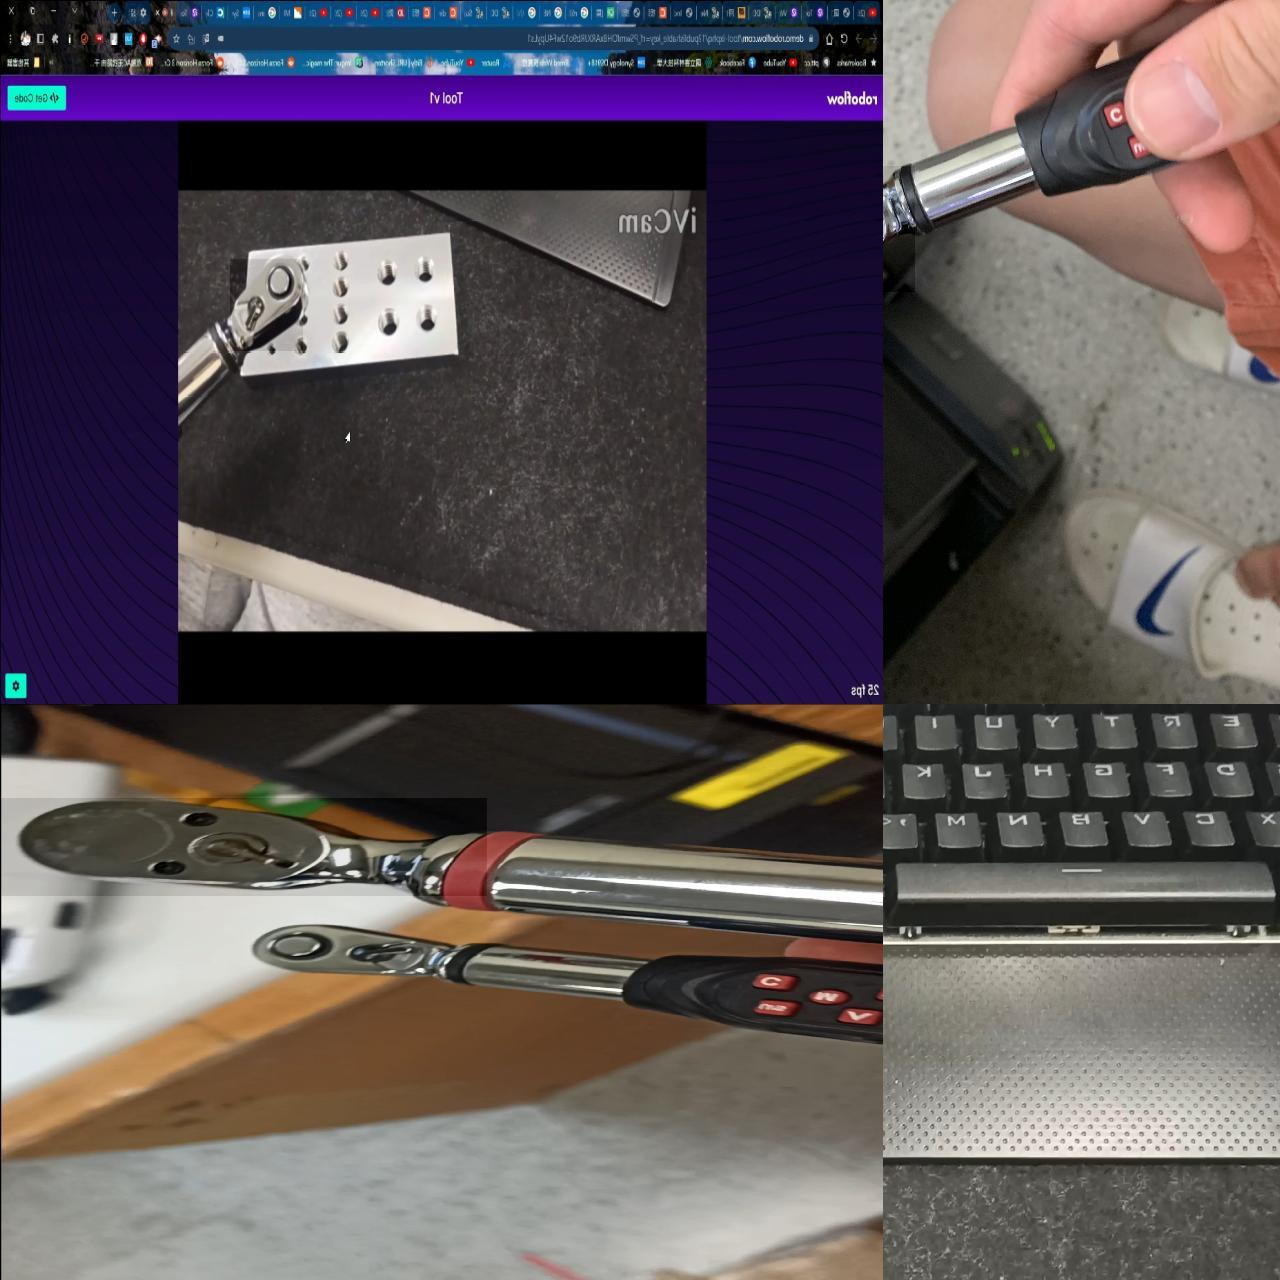Tool: (0, 797, 486, 895), (247, 916, 450, 979), (229, 258, 302, 350)
hole: (375, 308, 402, 336), (411, 308, 437, 335), (410, 256, 435, 282), (376, 260, 399, 284), (328, 329, 351, 352), (329, 274, 352, 294), (330, 304, 352, 324), (332, 250, 353, 269), (294, 333, 313, 352), (300, 308, 316, 327), (265, 338, 282, 355)
